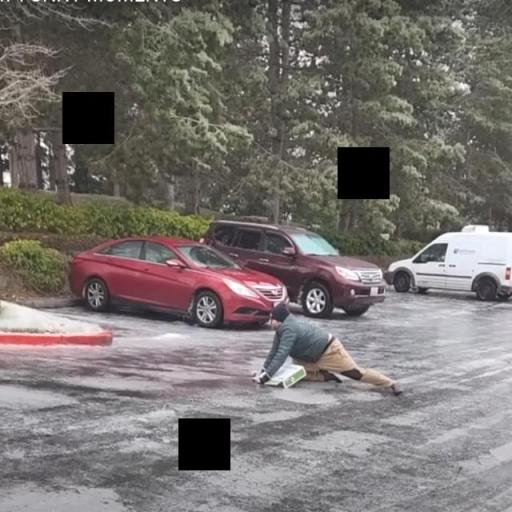Fall: (249, 299, 412, 399)
